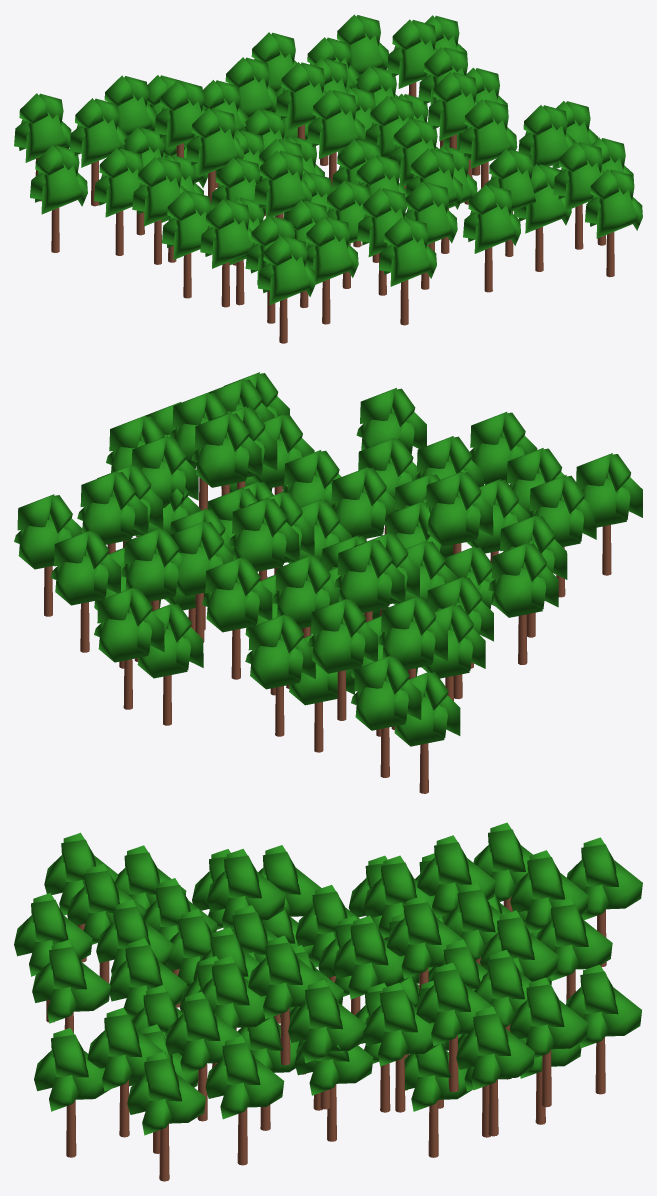
File: trees.gltf
The picture shows the model from 3 angles, top to bottom: view 1: azimuth 30°, elevation 25°; view 2: azimuth 150°, elevation 25°; view 3: azimuth 270°, elevation 25°; orthographic projection. The views are drawn at different scales.
Visible parts, largest first — view 1: Tree_41_summer.128, Tree_41_summer.127, Tree_41_summer.134, Tree_41_summer.129, Tree_41_summer.108, Tree_41_summer.113, Tree_41_summer.126, Tree_41_summer.106, Tree_41_summer.077, Tree_41_summer.103, Tree_41_summer.121, Tree_41_summer.102 (+47 smaller); view 2: Tree_41_summer.107, Tree_41_summer.074, Tree_41_summer.100, Tree_41_summer.087, Tree_41_summer.096, Tree_41_summer.117, Tree_41_summer.083, Tree_41_summer.118, Tree_41_summer.114, Tree_41_summer.128, Tree_41_summer.099, Tree_41_summer.086 (+40 smaller); view 3: Tree_41_summer.135, Tree_41_summer.091, Tree_41_summer.137, Tree_41_summer.087, Tree_41_summer.134, Tree_41_summer.090, Tree_41_summer.122, Tree_41_summer.129, Tree_41_summer.096, Tree_41_summer.132, Tree_41_summer.118, Tree_41_summer.086 (+41 smaller).
Part boxes in pixels (left/top/right/bottom): Tree_41_summer.128: left=258, top=235, right=315, bottom=343; Tree_41_summer.127: left=379, top=217, right=436, bottom=325; Tree_41_summer.134: left=585, top=169, right=642, bottom=277; Tree_41_summer.129: left=463, top=184, right=520, bottom=292; Tree_41_summer.108: left=30, top=145, right=87, bottom=252; Tree_41_summer.113: left=200, top=199, right=253, bottom=307; Tree_41_summer.126: left=306, top=216, right=358, bottom=324; Tree_41_summer.106: left=69, top=98, right=126, bottom=206; Tree_41_summer.077: left=307, top=89, right=365, bottom=185; Tree_41_summer.103: left=186, top=108, right=244, bottom=203; Tree_41_summer.121: left=459, top=99, right=517, bottom=188; Tree_41_summer.102: left=132, top=157, right=187, bottom=264; Tree_41_summer.107: left=351, top=655, right=421, bottom=777; Tree_41_summer.074: left=202, top=557, right=272, bottom=679; Tree_41_summer.100: left=307, top=598, right=377, bottom=720; Tree_41_summer.087: left=50, top=530, right=120, bottom=652; Tree_41_summer.096: left=94, top=587, right=164, bottom=709; Tree_41_summer.117: left=488, top=542, right=558, bottom=664; Tree_41_summer.083: left=245, top=614, right=315, bottom=736; Tree_41_summer.118: left=191, top=412, right=261, bottom=495; Tree_41_summer.114: left=426, top=471, right=493, bottom=554; Tree_41_summer.128: left=576, top=453, right=642, bottom=575; Tree_41_summer.099: left=334, top=539, right=404, bottom=622; Tree_41_summer.086: left=77, top=471, right=147, bottom=553; Tree_41_summer.135: left=127, top=1051, right=205, bottom=1181; Tree_41_summer.091: left=456, top=1006, right=534, bottom=1136; Tree_41_summer.137: left=205, top=1035, right=284, bottom=1165; Tree_41_summer.087: left=509, top=977, right=588, bottom=1107; Tree_41_summer.134: left=34, top=1028, right=110, bottom=1157; Tree_41_summer.090: left=363, top=982, right=439, bottom=1112; Tree_41_summer.122: left=288, top=979, right=366, bottom=1109; Tree_41_summer.129: left=32, top=940, right=110, bottom=1032; Tree_41_summer.096: left=566, top=964, right=641, bottom=1094; Tree_41_summer.132: left=87, top=1007, right=165, bottom=1137; Tree_41_summer.118: left=248, top=935, right=326, bottom=1065; Tree_41_summer.086: left=416, top=962, right=494, bottom=1092.
Bounding box in the file's own units: 9.78 × 4.05 × 10.35.
1 material, 1 textured.
